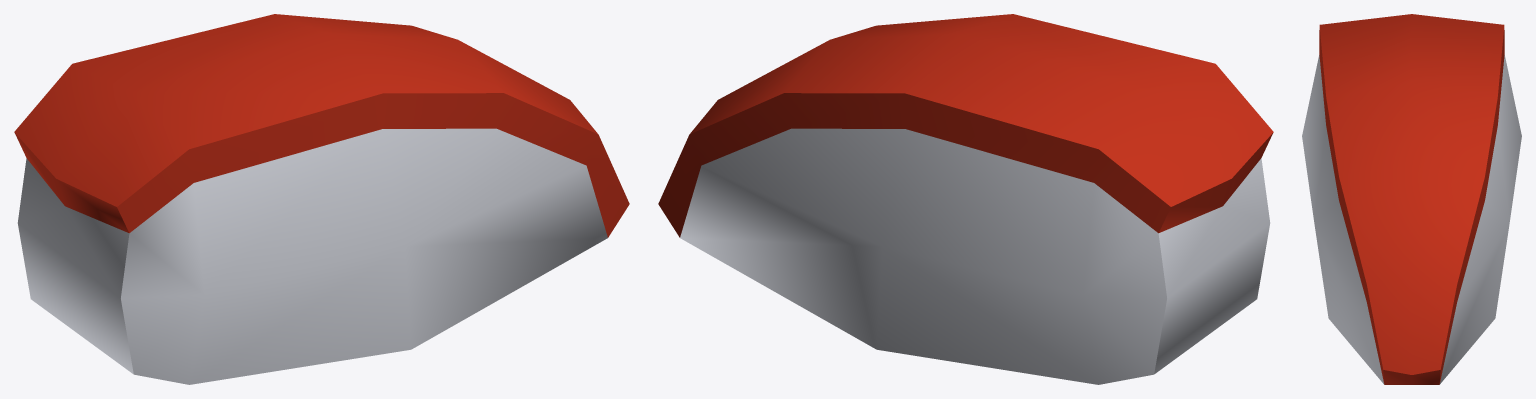
File: Sushi.fbx
3 views of the same model, side by side, from view 1: azimuth 30°, elevation 25°; view 2: azimuth 150°, elevation 25°; view 3: azimuth 270°, elevation 25° (orthographic). The views are drawn at different scales.
Parts seen in each view (by area): view 1: Sushi; view 2: Sushi; view 3: Sushi.
Part boxes in pixels (box(x1,y1,x2,y2)): Sushi: box(14, 14, 629, 384); Sushi: box(658, 14, 1273, 384); Sushi: box(1302, 14, 1521, 384).
Bounding box in the file's own units: 204 × 99.61 × 88.33.
